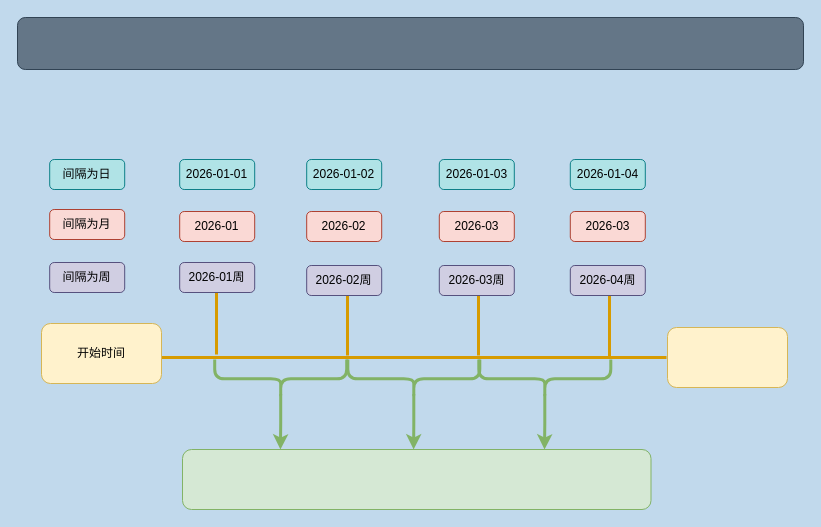
Image size: 821x527. Some labels were removed from this diagram. The shapes that lost their labels are listed below. From the top down, each one's centre as x and y in pixels, then its label:
At (x=410, y=43): "查询瞬时数据的历史值".
At (x=727, y=357): "结束时间".
At (x=416, y=479): "获取当前时间范围内，每个时间间隔,计算的值".
